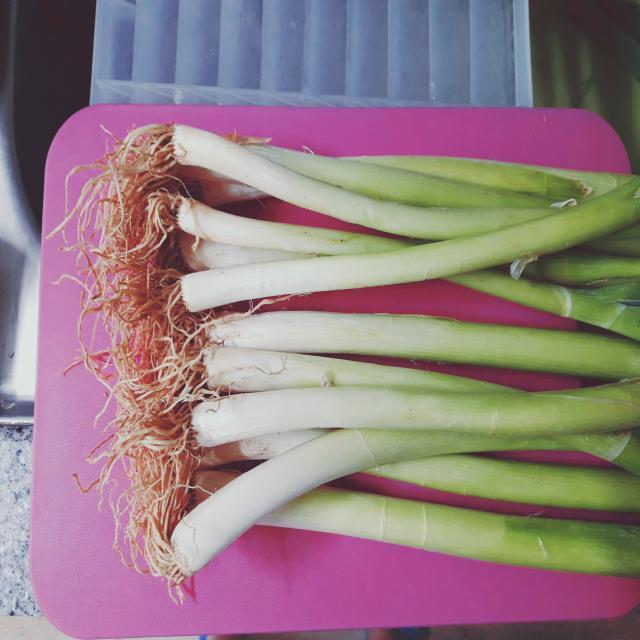green_onion: (172, 381, 640, 574), (181, 179, 640, 312), (260, 488, 640, 577), (211, 311, 640, 378), (250, 145, 632, 208), (175, 125, 376, 216), (366, 455, 640, 512), (204, 348, 516, 392), (449, 272, 640, 341), (179, 199, 410, 255), (186, 235, 312, 270)
